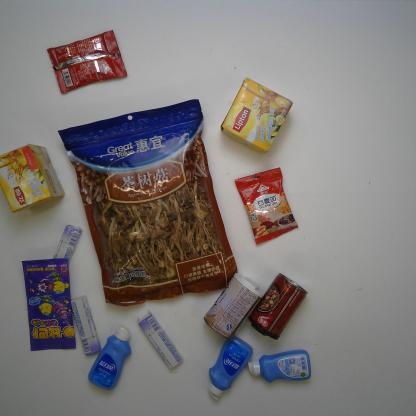Candy: (20, 257, 76, 352), (136, 308, 184, 371), (38, 224, 81, 288), (67, 294, 102, 359)
Canned Food: (202, 271, 263, 341), (249, 273, 308, 341)
Dried Food: (58, 96, 238, 307)
Instant Drink: (220, 78, 294, 155), (46, 30, 130, 95), (233, 166, 300, 246), (0, 143, 66, 214)
Personal Hygiene: (206, 334, 253, 400), (86, 326, 132, 390), (243, 348, 312, 386)
